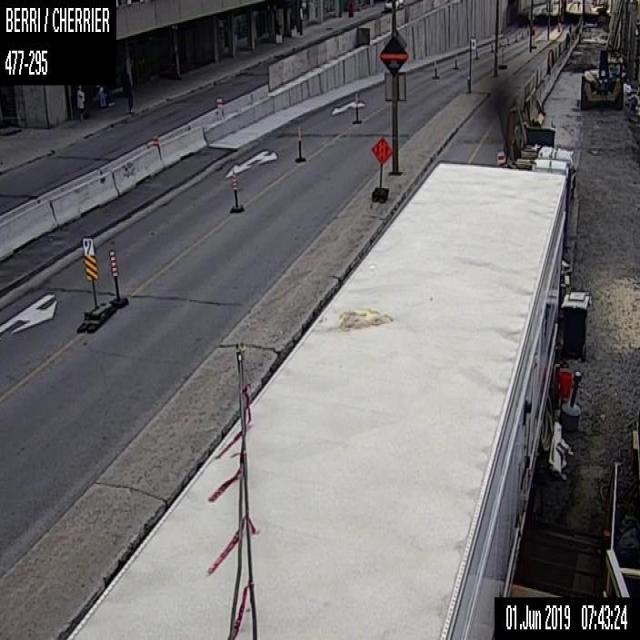construction: (371, 136, 392, 203), (109, 247, 120, 300), (231, 164, 238, 208), (297, 127, 301, 157), (355, 89, 358, 120), (433, 54, 436, 76), (474, 48, 478, 59), (454, 51, 456, 66), (506, 34, 508, 44), (490, 41, 492, 51), (514, 32, 516, 41), (521, 32, 523, 38)
pedestrian: (122, 72, 134, 113), (77, 84, 84, 121)
vehicle: (383, 0, 403, 9)
